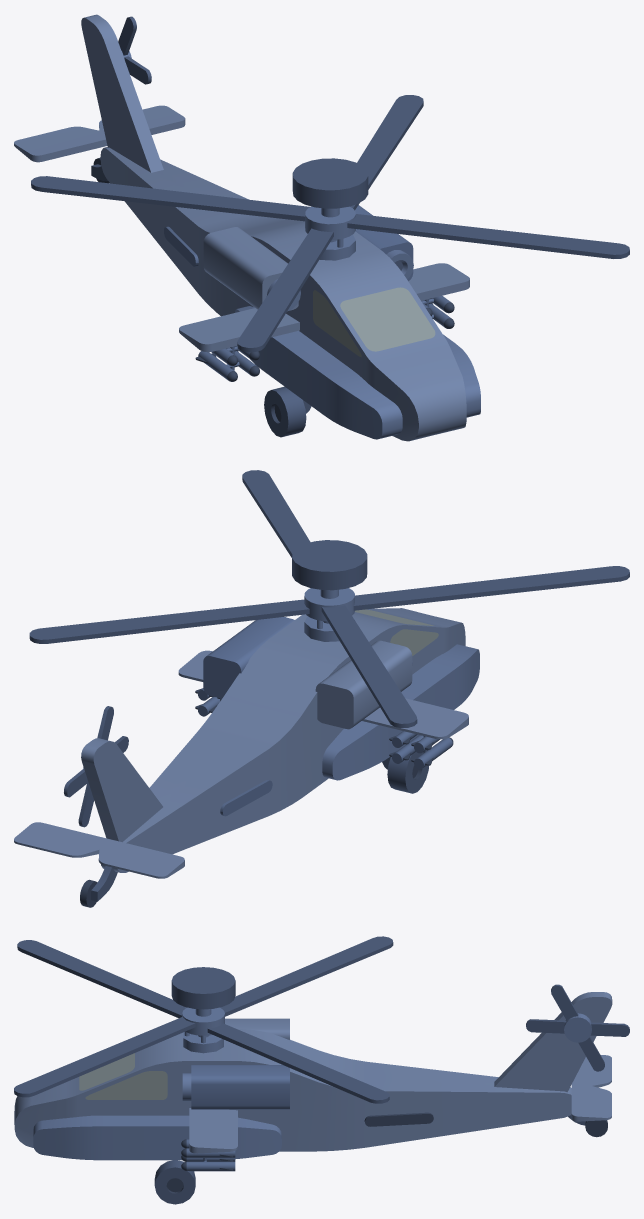
File: Helicopter.fbx
The picture shows the model from 3 angles, top to bottom: view 1: azimuth 30°, elevation 25°; view 2: azimuth 150°, elevation 25°; view 3: azimuth 270°, elevation 25°; orthographic projection. The views are drawn at different scales.
Parts seen in each view (by area): view 1: Helicopter, Helicopter.002; view 2: Helicopter, Helicopter.002, Helicopter.003; view 3: Helicopter, Helicopter.002, Helicopter.001, Helicopter.003.
Boxes of the visible parts, x1,y1,x2,y2 form: Helicopter: (14,14,480,441); Helicopter.002: (31,95,629,352); Helicopter: (14,608,479,907); Helicopter.002: (29,470,629,727); Helicopter.003: (78,706,113,827); Helicopter: (14,992,612,1204); Helicopter.002: (14,936,393,1103); Helicopter.001: (526,1013,629,1042); Helicopter.003: (551,984,604,1071).
Bounding box in the file's own units: 6.68 × 3.79 × 10.86.
